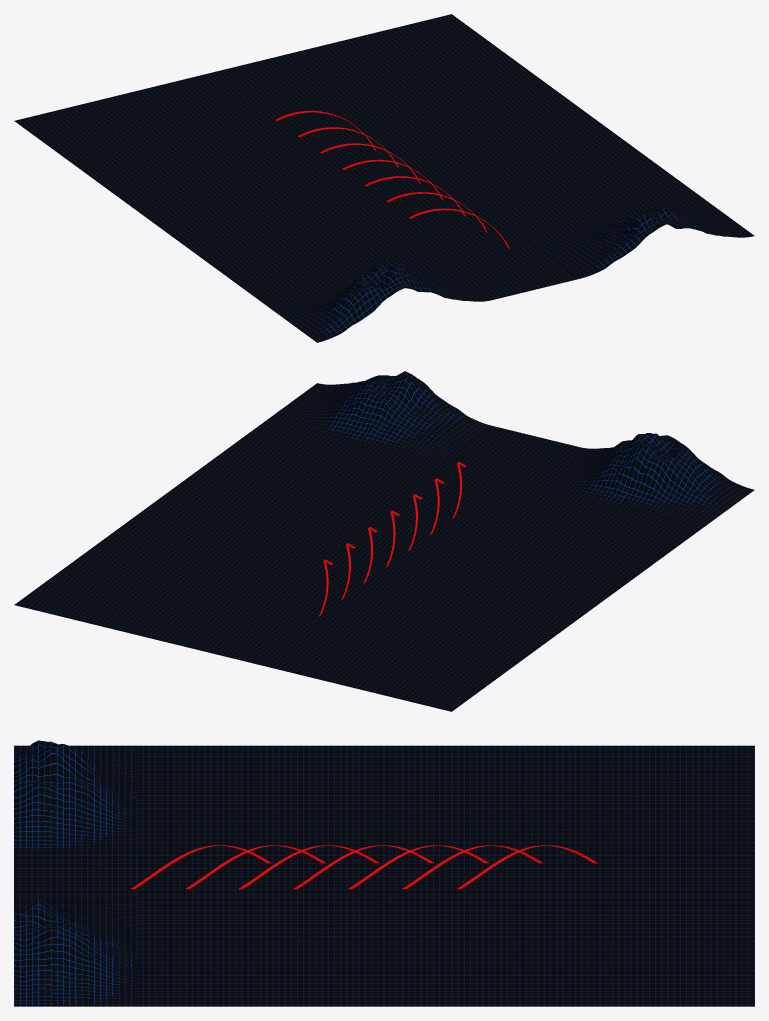
The model's file is bgspiral.dae.
The picture shows the model from 3 angles, top to bottom: view 1: azimuth 30°, elevation 25°; view 2: azimuth 150°, elevation 25°; view 3: azimuth 270°, elevation 25°; orthographic projection. The views are drawn at different scales.
Visible parts, largest first — view 1: Plane, Landscape, spiral; view 2: Plane, Landscape, spiral; view 3: Plane, Landscape, spiral.
Part boxes in pixels (x1,y1,x2,y2): Plane: (14, 14, 703, 305); Landscape: (267, 199, 754, 342); spiral: (275, 110, 509, 248); Plane: (14, 420, 703, 711); Landscape: (267, 371, 754, 526); spiral: (319, 461, 466, 616); Plane: (137, 745, 754, 1006); Landscape: (14, 740, 137, 1006); spiral: (130, 845, 597, 889).
Bounding box in the file's own units: 100 × 120 × 10.95.
